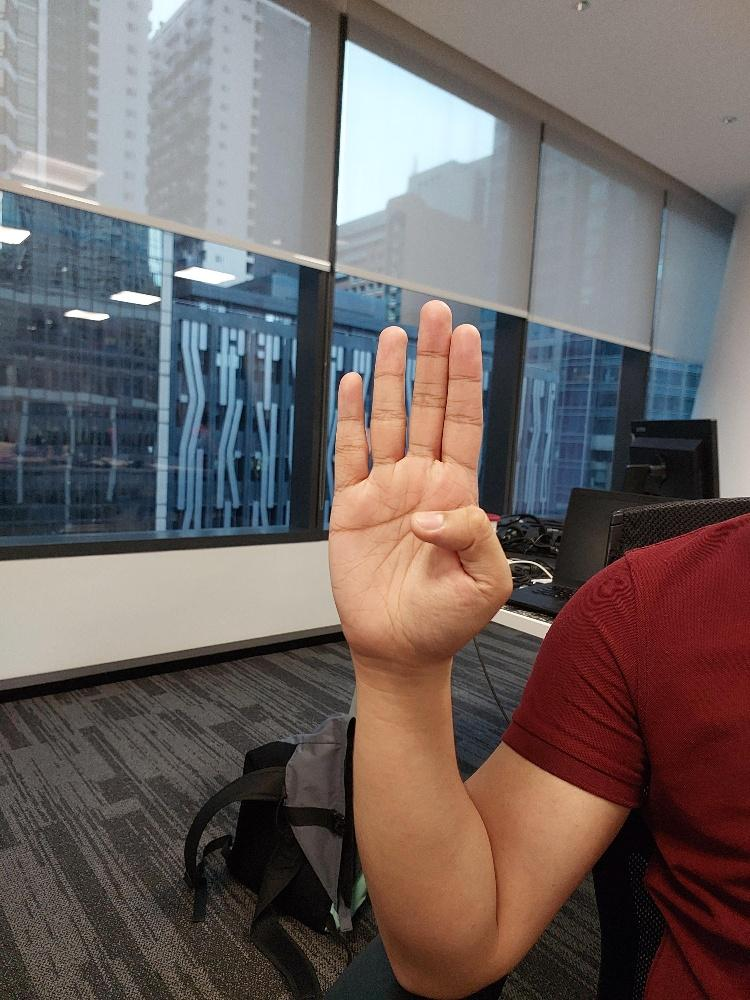b: (325, 294, 515, 666)
